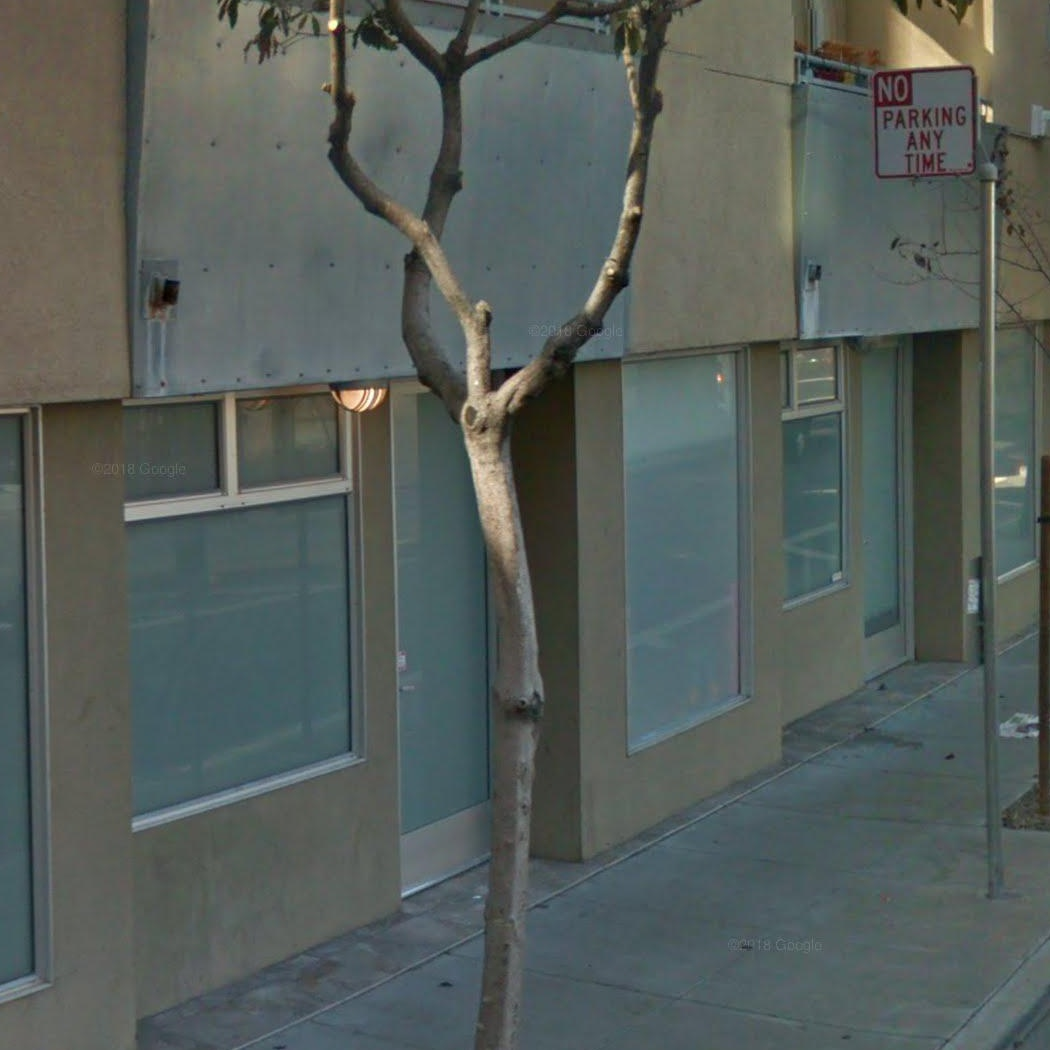No Parking Anytime: (870, 63, 979, 182)
